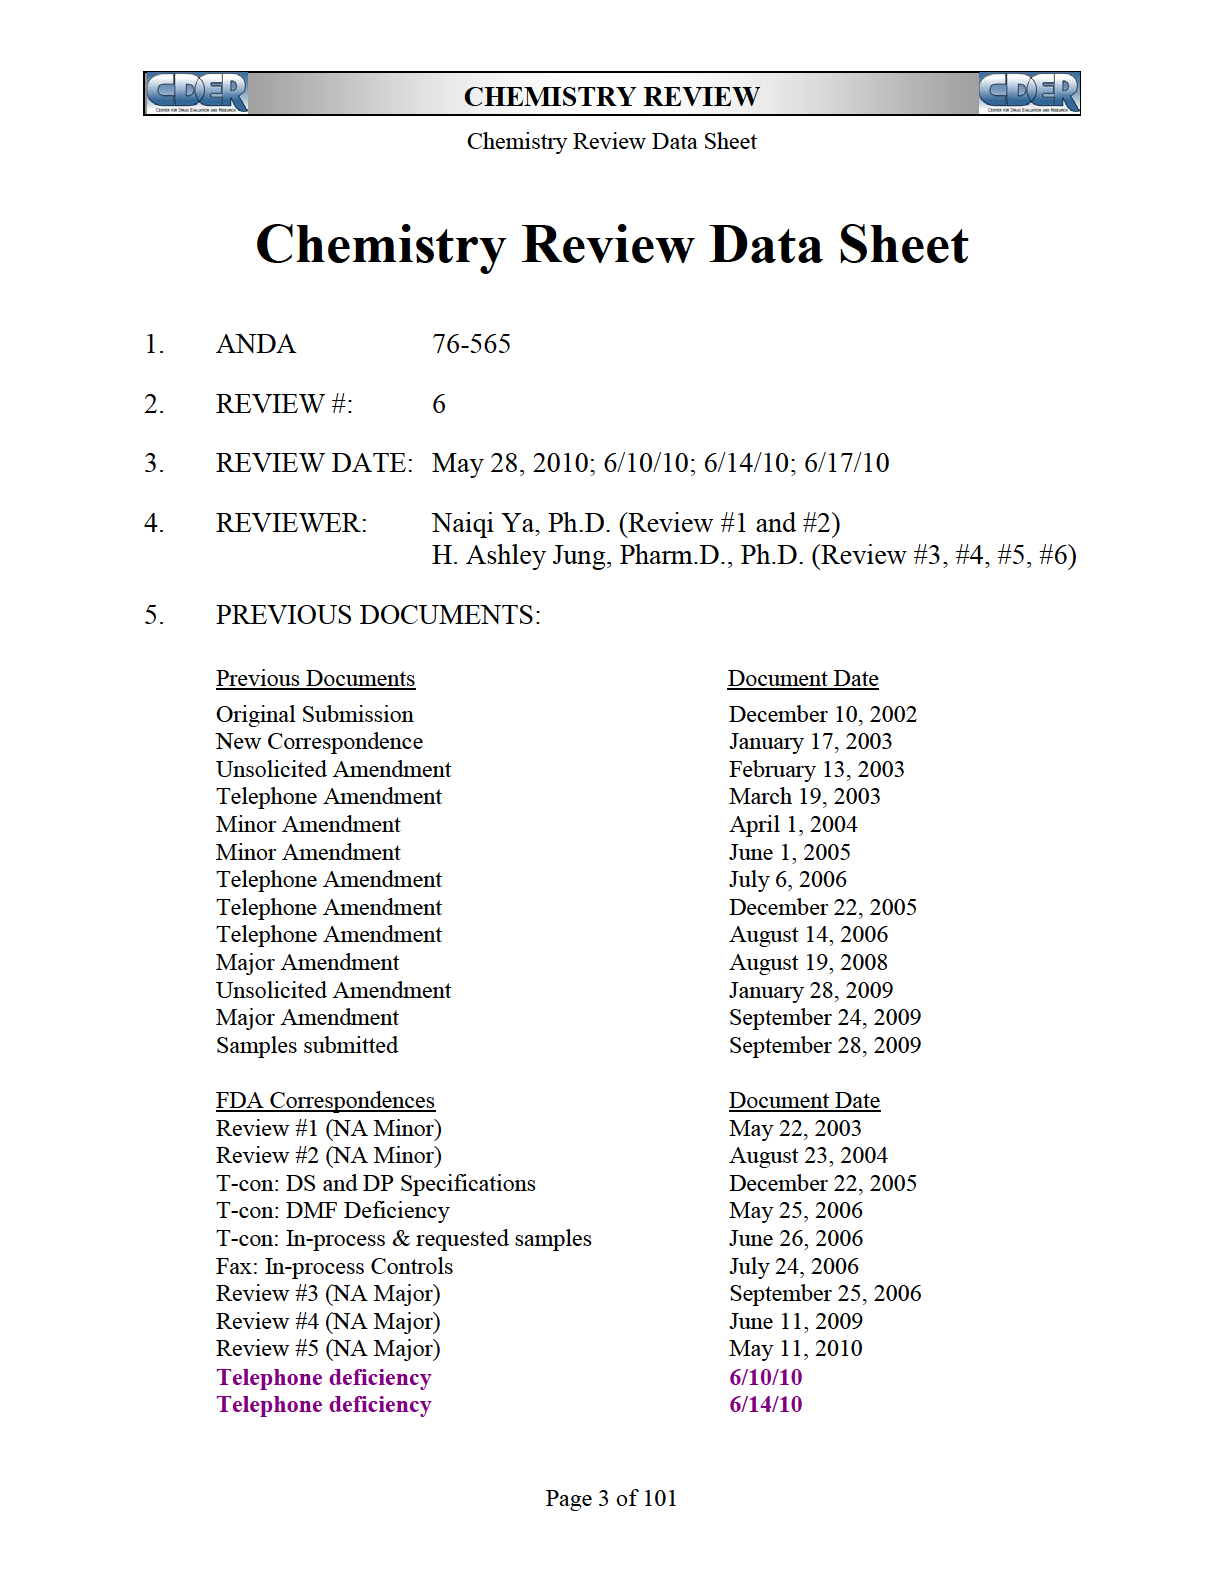nolines: (216, 662, 924, 1410), (139, 324, 1079, 629)
